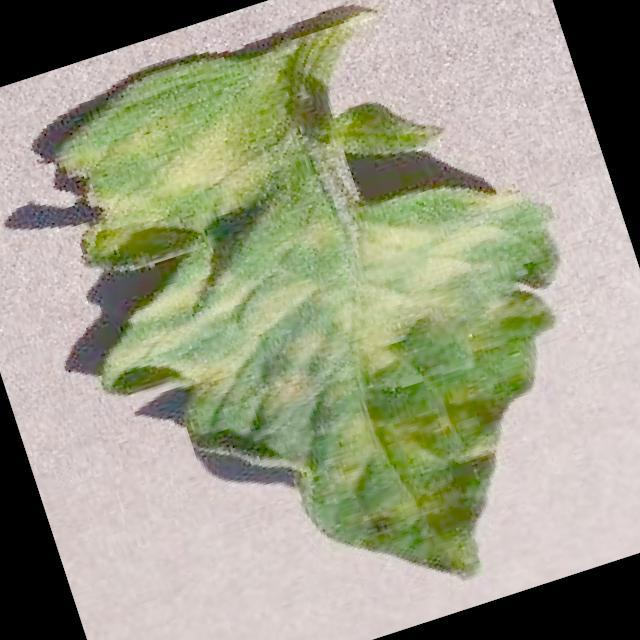Tomato mold leaf: (12, 0, 640, 640)
